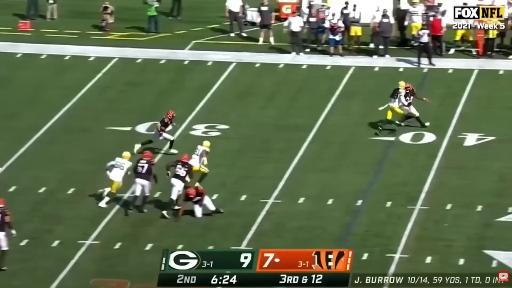Helmet: (186, 187, 196, 198), (142, 151, 152, 159), (180, 154, 189, 162), (122, 152, 131, 160), (203, 141, 210, 151), (167, 111, 175, 119), (399, 82, 405, 89), (405, 83, 411, 90), (0, 199, 5, 207), (412, 0, 419, 4)
Jersey: (107, 158, 132, 181), (168, 160, 192, 183), (134, 159, 154, 181), (189, 146, 207, 166), (184, 187, 205, 203), (389, 88, 405, 107), (409, 5, 424, 23), (0, 209, 10, 232), (158, 118, 172, 133), (404, 88, 415, 106)
Player: (162, 155, 192, 218), (99, 152, 132, 207), (130, 151, 157, 212), (376, 82, 405, 134), (399, 84, 429, 127), (183, 186, 223, 217), (0, 199, 16, 270), (154, 111, 177, 153), (189, 141, 210, 184), (408, 0, 424, 44)
